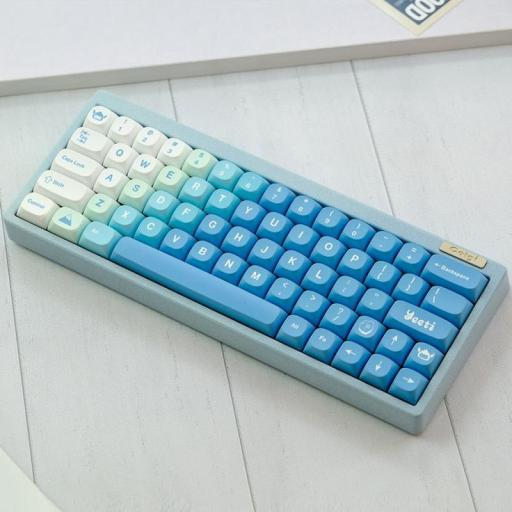KEYBOARD-2: (12, 89, 501, 475)
